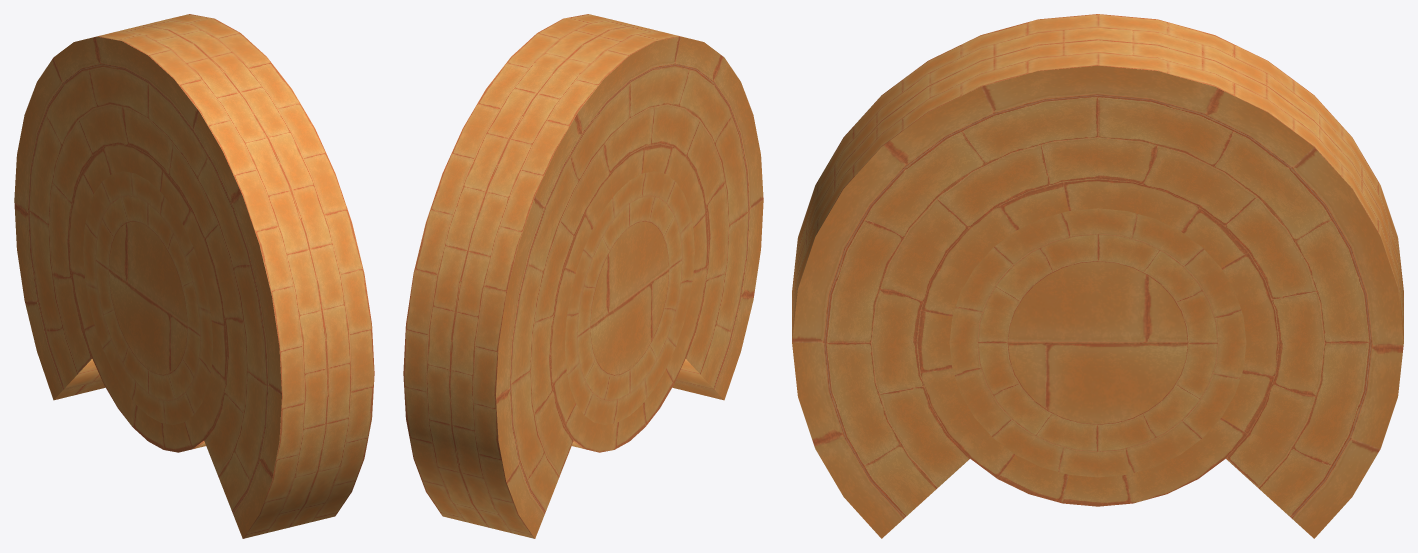
The model's file is TempleEmbelisher02_Art.glb.
3 views of the same model, side by side, from view 1: azimuth 30°, elevation 25°; view 2: azimuth 150°, elevation 25°; view 3: azimuth 270°, elevation 25° (orthographic). The views are drawn at different scales.
Parts seen in each view (by area): view 1: TempleEmbelisher02_Art; view 2: TempleEmbelisher02_Art; view 3: TempleEmbelisher02_Art.
Boxes of the visible parts, x1,y1,x2,y2 form: TempleEmbelisher02_Art: (14, 14, 374, 538); TempleEmbelisher02_Art: (403, 14, 763, 538); TempleEmbelisher02_Art: (792, 14, 1403, 538).
Bounding box in the file's own units: 3.96 × 16.92 × 19.82.
Materials: 1 (1 with a texture image).
